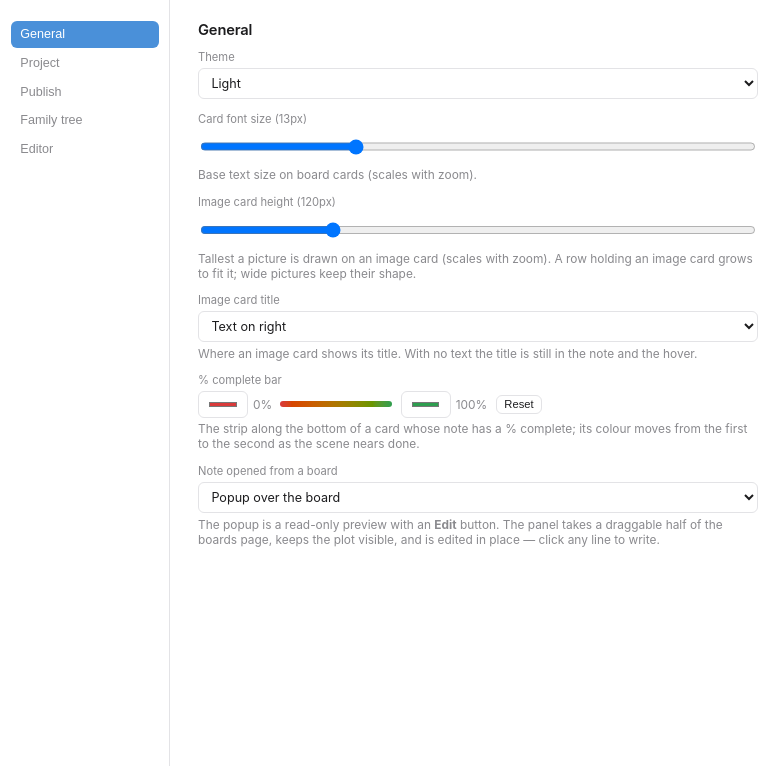
Settings — Manuscript row (#204) › keeps a level whose name was since removed selectable
Click the tab "Project" at coordinates (84, 63), box [10,50,158,76]
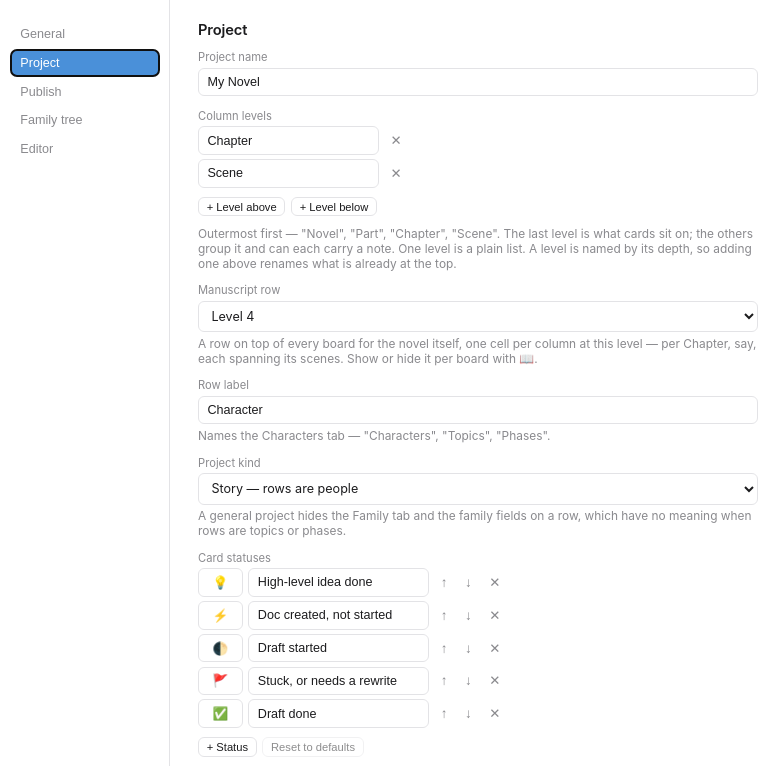
Expected: the field labelled "Project name" is not empty, [198,68,758,96]
Expected: the dropdown labelled "Manuscript row" shows "Level 4", [198,301,758,332]
